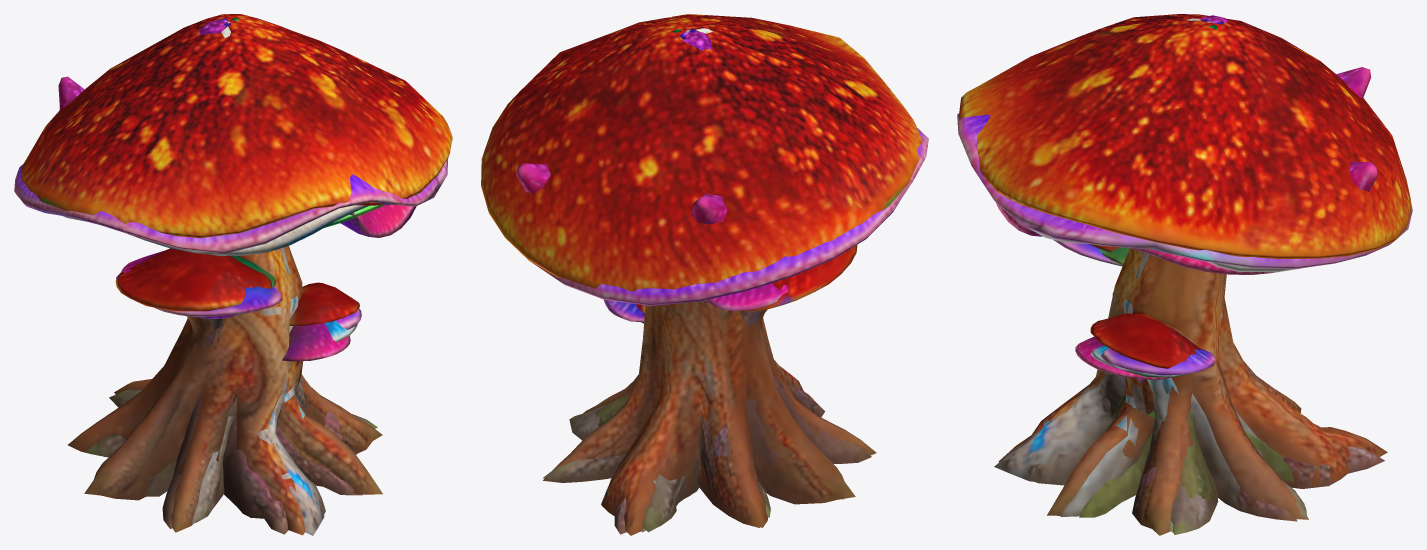
The model's file is five-mushrooms.glb.
The picture shows the model from 3 angles, left to right: view 1: azimuth 30°, elevation 25°; view 2: azimuth 150°, elevation 25°; view 3: azimuth 270°, elevation 25°; orthographic projection. The views are drawn at different scales.
Parts seen in each view (by area): view 1: Mushroom variant 3, Mushroom variant 5, Mushroom variant 1, Mushroom variant 4, Mushroom variant 2; view 2: Mushroom variant 3, Mushroom variant 1, Mushroom variant 5; view 3: Mushroom variant 3, Mushroom variant 1, Mushroom variant 4, Mushroom variant 5, Mushroom variant 2.
Part boxes in pixels (x1,y1,x2,y2): Mushroom variant 3: (21,14,452,535); Mushroom variant 5: (58,20,416,534); Mushroom variant 1: (14,18,448,522); Mushroom variant 4: (63,21,416,535); Mushroom variant 2: (231,17,384,286); Mushroom variant 3: (481,14,922,535); Mushroom variant 1: (530,28,928,532); Mushroom variant 5: (516,32,871,534); Mushroom variant 3: (959,14,1410,535); Mushroom variant 1: (957,19,1412,534); Mushroom variant 4: (994,18,1302,532); Mushroom variant 5: (996,15,1384,521); Mushroom variant 2: (1079,24,1293,517).
Size of the model in its own units: 0.9147 by 1 by 0.9081.
1 material, 1 textured.
